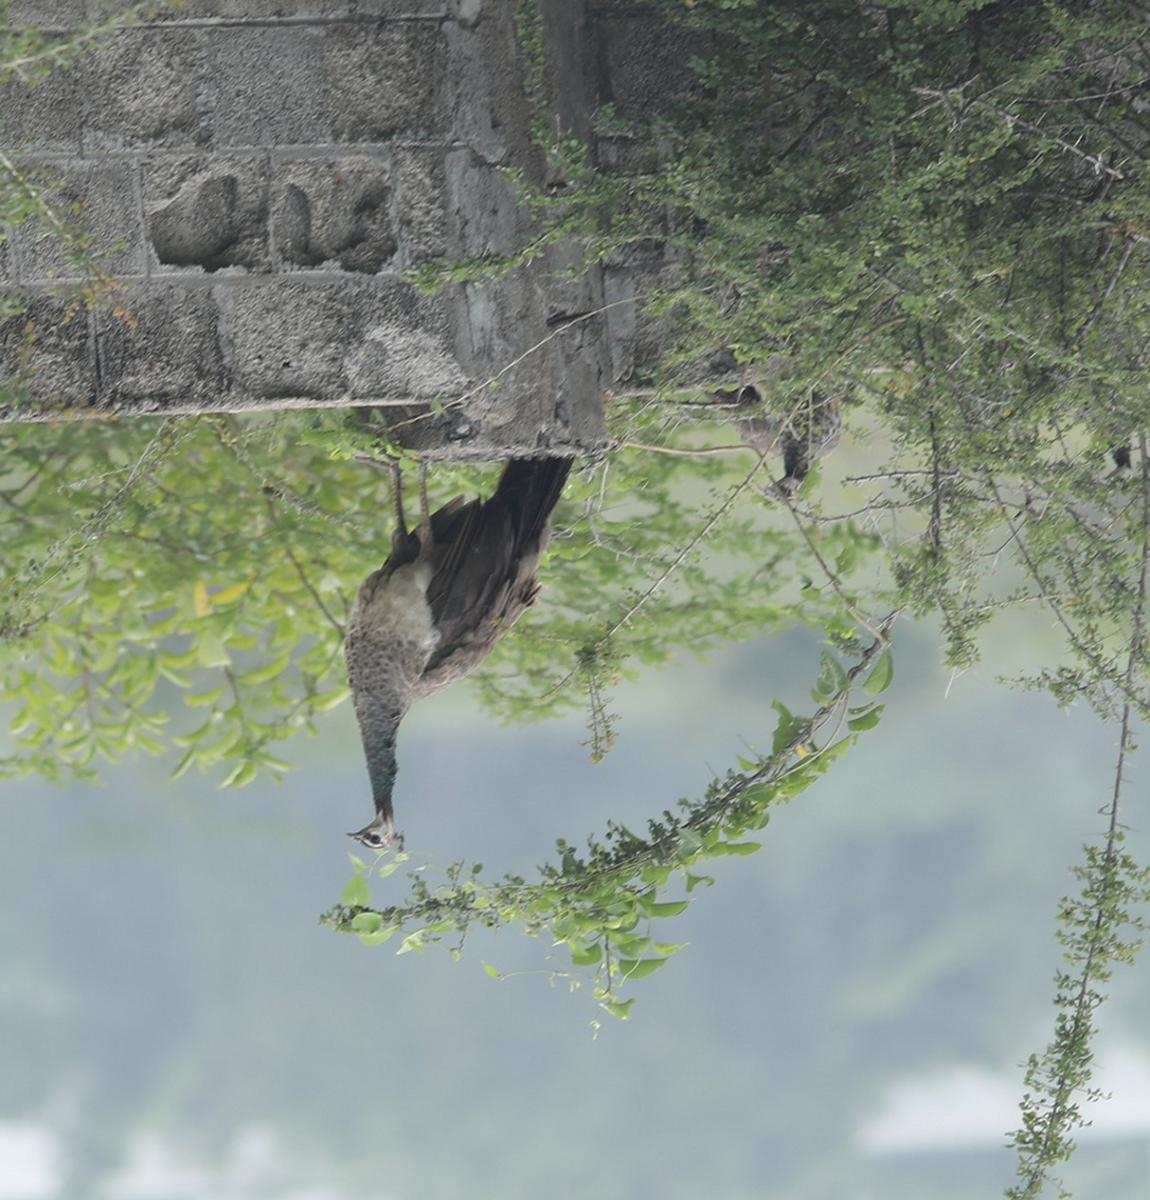peacock: (355, 399, 588, 943)
